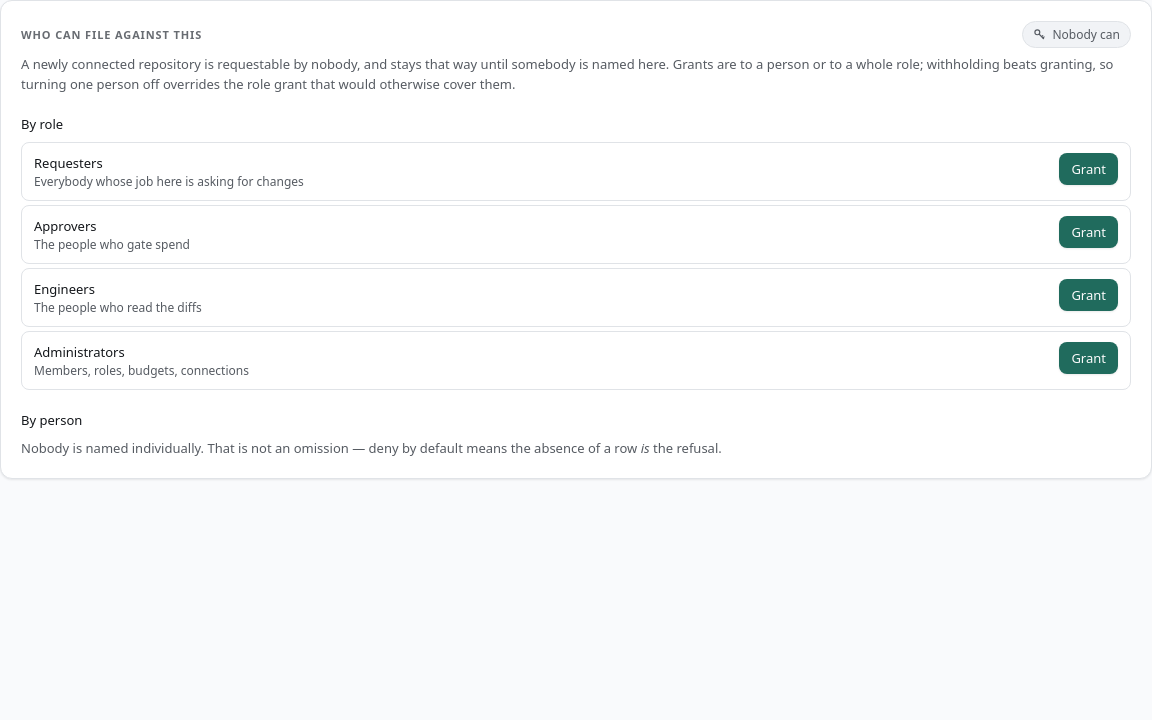
Test: repo access (§7.3) › shows the server sentence when a grant is refused
Click the button "Grant" in the row of "Requesters": (1089,169) [1059,153,1118,185]
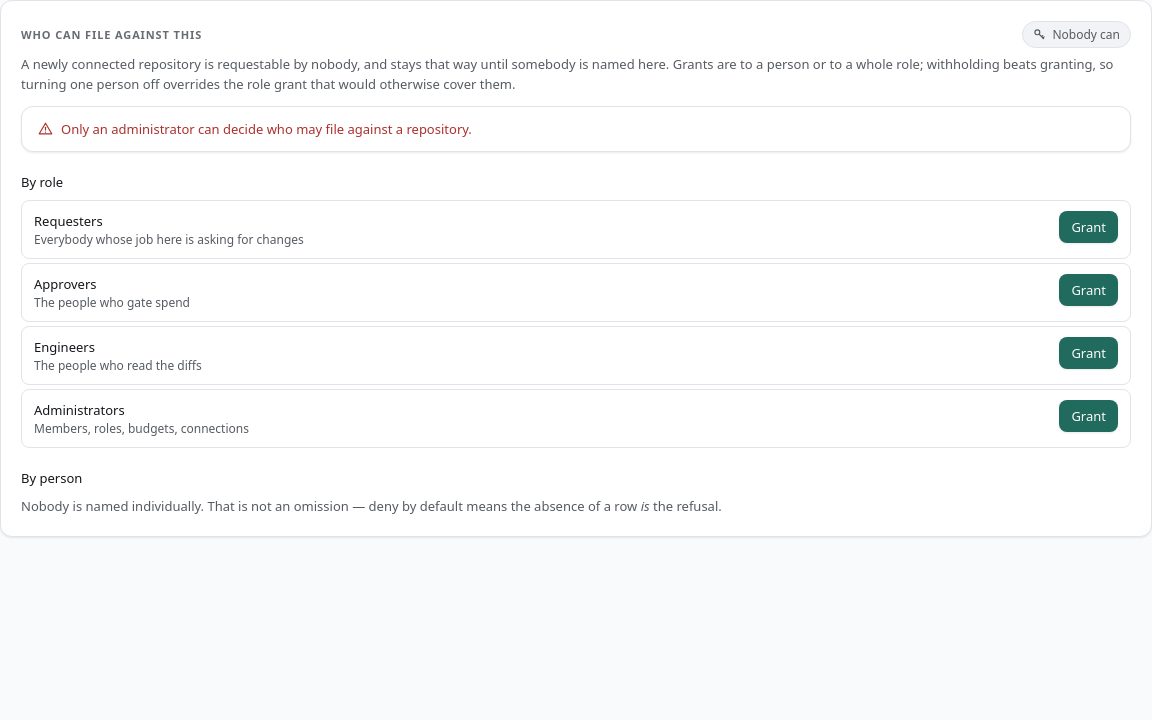
Expected: the text "Only an administrator can decide who may file" is shown, [61,120,472,138]
